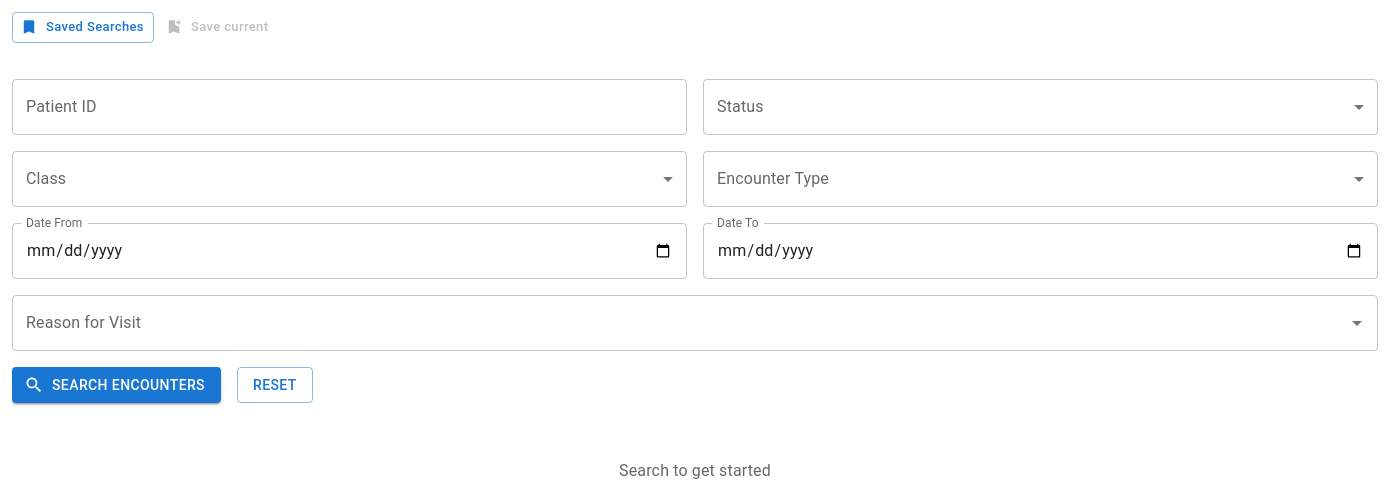
Test: EncounterSearch › disables the Search button while loading
Click the button "Search Encounters".
click(116, 385)  # box [12,367,221,403]
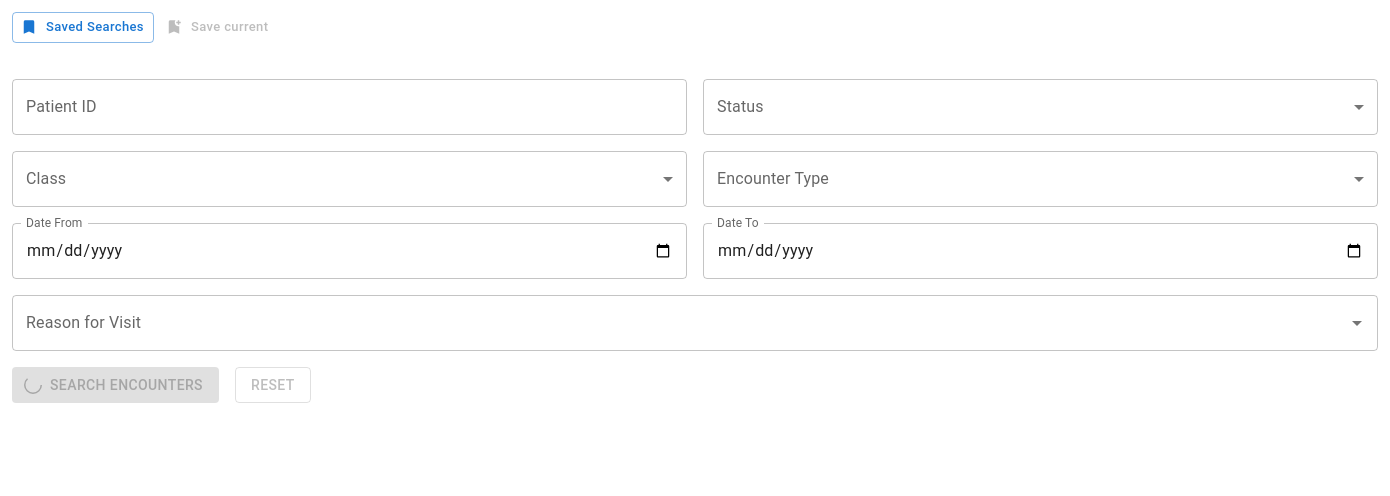
Now the button "Search Encounters" is disabled, box [12,367,219,403]
